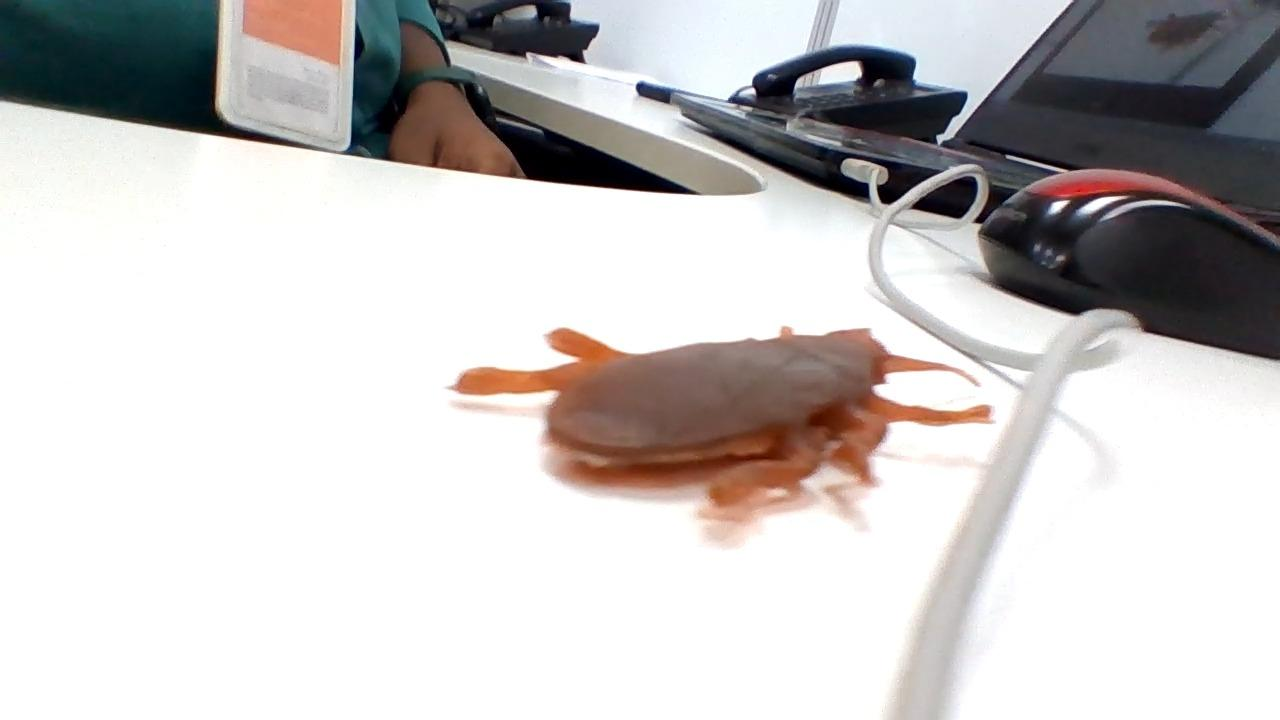cockroach: (452, 292, 970, 523)
